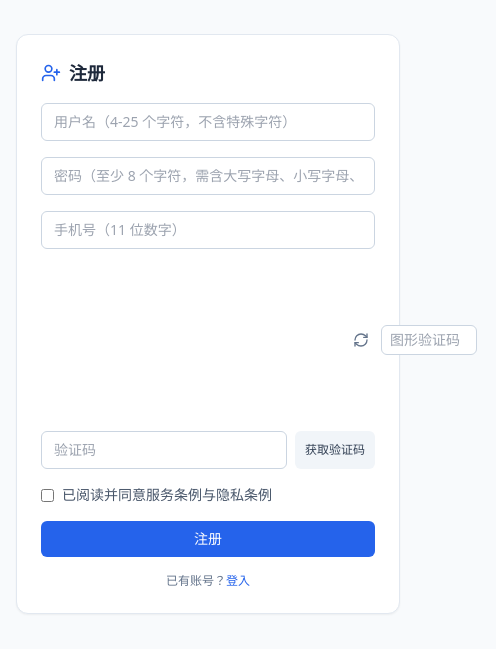
Test: Register — SMS-gated flow (UC001) › blocks submission when the terms checkbox is not agreed
Step 1. Type "bob" into the field with placeholder "用户名（4-25 个字符，不含特殊字符）" → (208, 122), box [41,103,375,141]
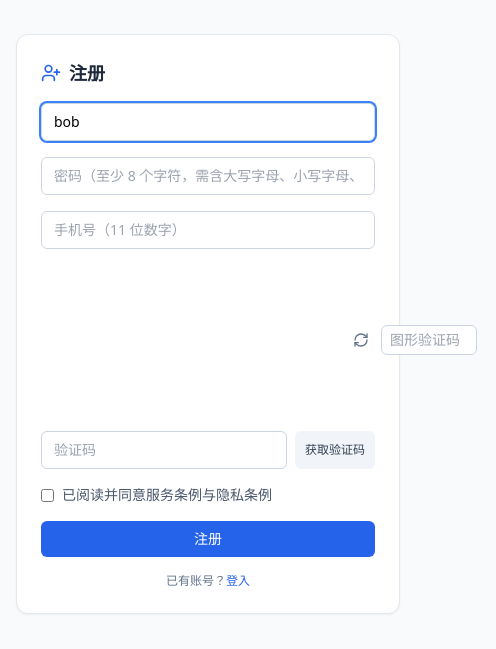
Step 2. Type "Secret123!" into the password field with placeholder "密码（至少 8 个字符，需含大写字母、小写字母、特殊字符中的任意两项）" → (208, 176), box [41,157,375,195]
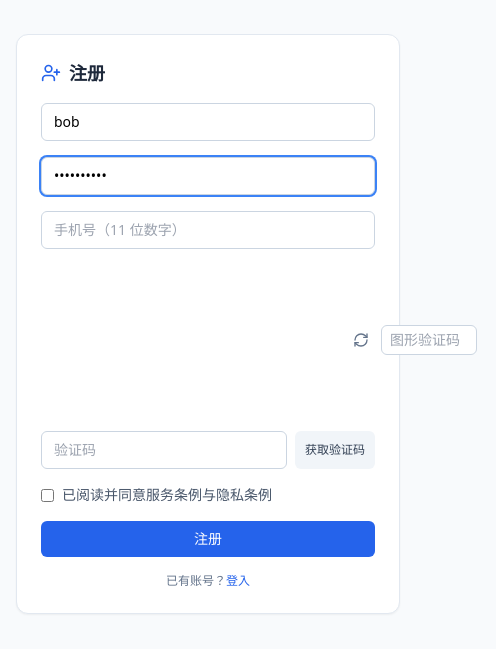
Step 3. Type "13800000000" into the field with placeholder "手机号（11 位数字）" → (208, 230), box [41,211,375,249]
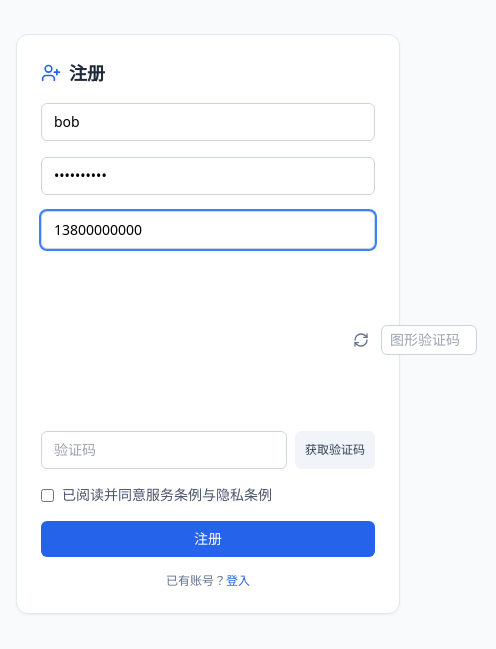
Step 4. Type "ABCD" into the field with placeholder "图形验证码" → (429, 340), box [381,325,477,355]
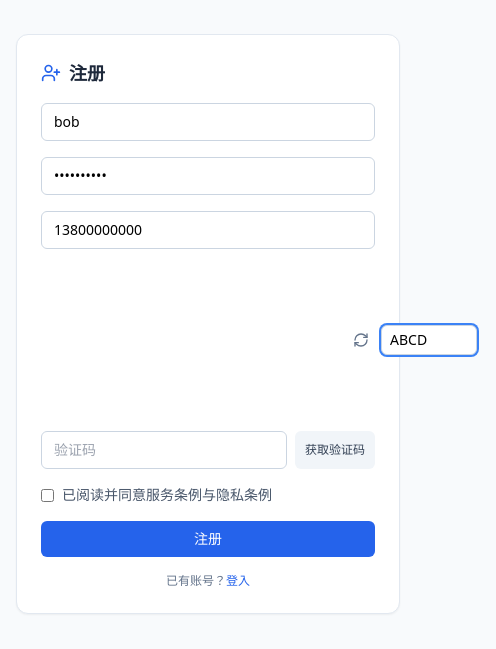
Step 5. Type "123456" into the field with placeholder "验证码" → (164, 450), box [41,431,287,469]
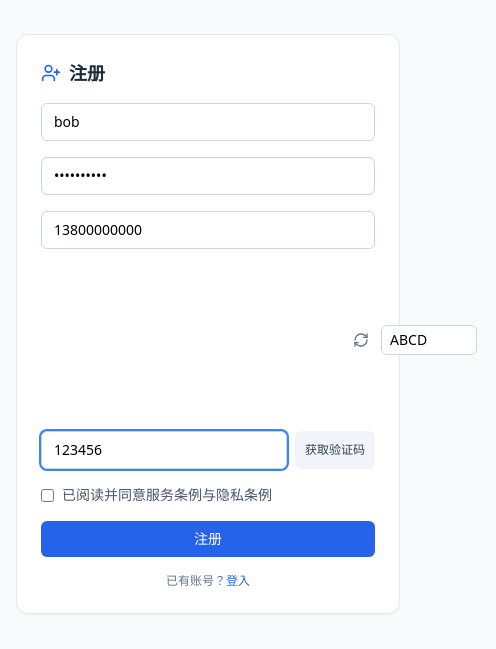
// Do NOT check the terms box → submit is clicked but register is NOT called.
Step 6. Click the button "注册" → (208, 539), box [41,521,375,557]
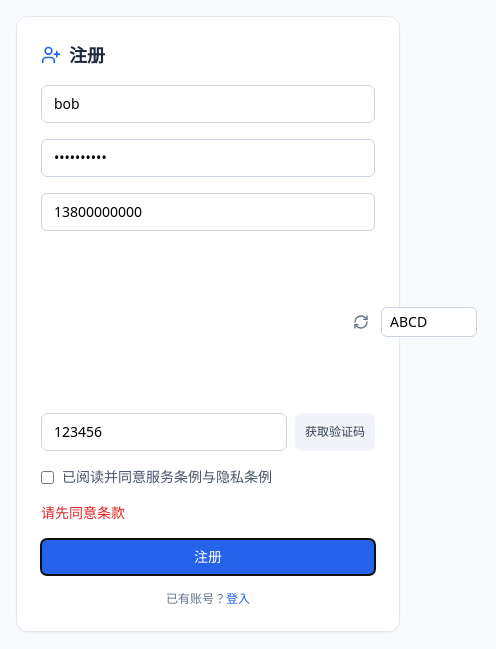
expect the text "请先同意条款" is shown: met, box [41,503,125,522]
